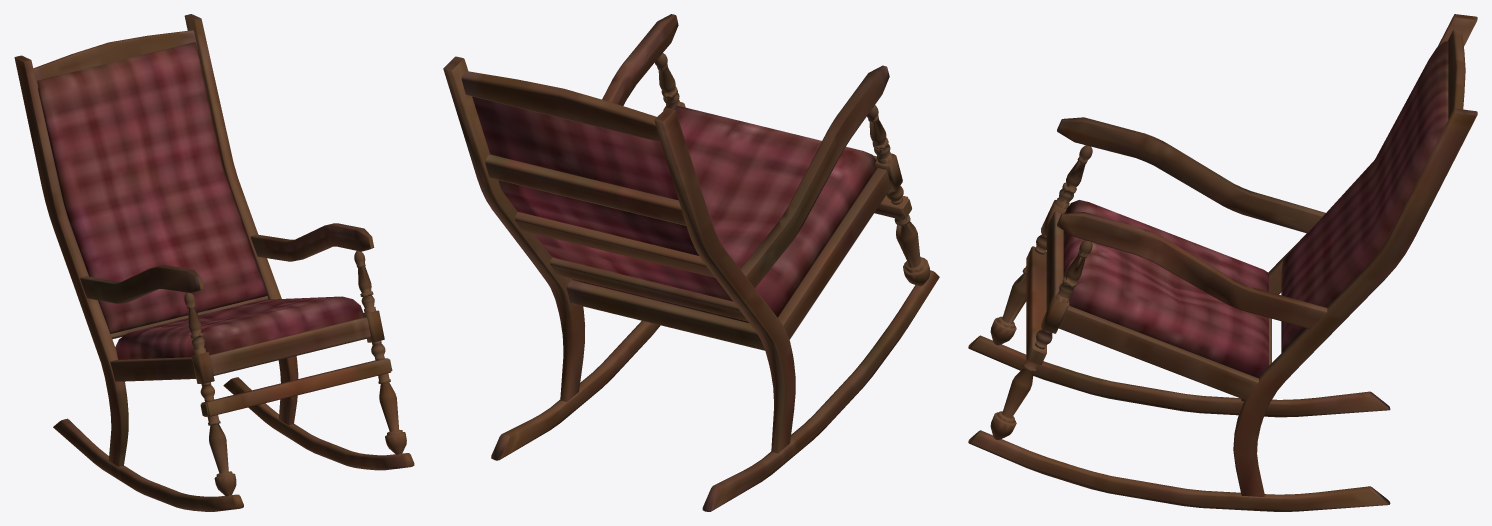
The model's file is rocker2.glb.
The picture shows the model from 3 angles, left to right: view 1: azimuth 30°, elevation 25°; view 2: azimuth 150°, elevation 25°; view 3: azimuth 270°, elevation 25°; orthographic projection. The views are drawn at different scales.
Visible parts, largest first — view 1: Rocking_chair_Material #25_0; view 2: Rocking_chair_Material #25_0; view 3: Rocking_chair_Material #25_0.
Boxes of the visible parts, box(x1,y1,x2,y2) form: Rocking_chair_Material #25_0: box(14, 14, 414, 511); Rocking_chair_Material #25_0: box(443, 14, 939, 511); Rocking_chair_Material #25_0: box(968, 14, 1477, 511).
Bounding box in the file's own units: 0.2853 × 0.5074 × 0.5847.
1 material, 1 textured.
